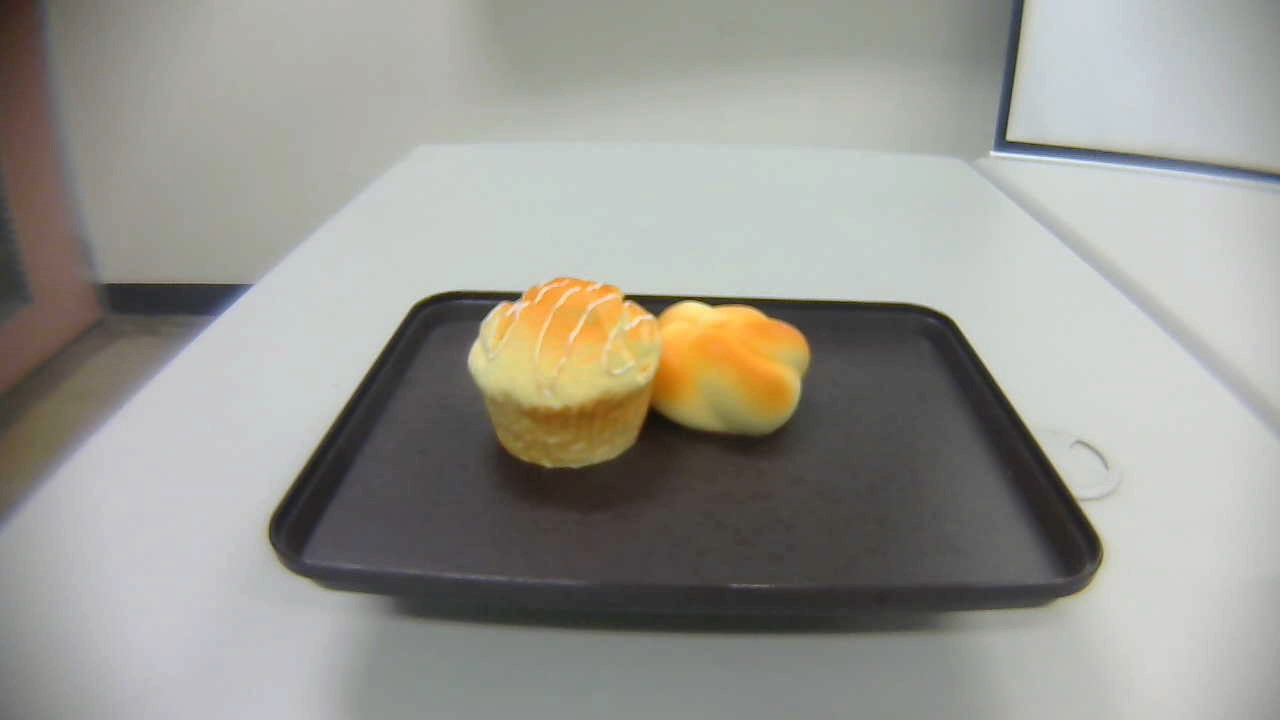cupcake: (467, 279, 659, 469)
twist bread: (657, 297, 812, 439)
